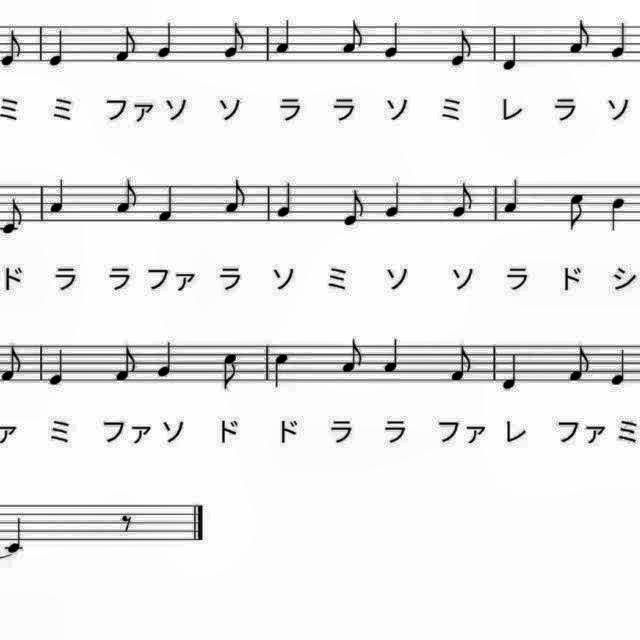Eighth-note: (218, 19, 250, 65), (110, 176, 142, 220), (562, 15, 594, 59), (446, 25, 476, 71), (110, 20, 140, 66), (562, 188, 590, 236), (110, 340, 140, 384), (448, 178, 478, 222), (338, 334, 368, 378), (447, 340, 477, 384), (564, 340, 594, 384), (337, 15, 367, 58), (339, 186, 368, 230), (221, 174, 251, 216), (0, 24, 24, 72), (218, 348, 242, 396), (0, 196, 26, 240), (0, 341, 24, 386)
Eighth-rest: (118, 508, 138, 536)
Quarter-note: (496, 31, 526, 77), (498, 350, 526, 396), (45, 22, 71, 70), (1, 514, 30, 554), (380, 334, 406, 378), (155, 182, 181, 226), (381, 18, 407, 62), (606, 344, 632, 388), (155, 18, 181, 62), (45, 344, 71, 388), (606, 18, 632, 62), (381, 179, 407, 223), (155, 336, 181, 379), (274, 177, 298, 221), (270, 348, 294, 392), (500, 177, 524, 220), (46, 177, 70, 220), (274, 16, 298, 59), (606, 192, 630, 235)
